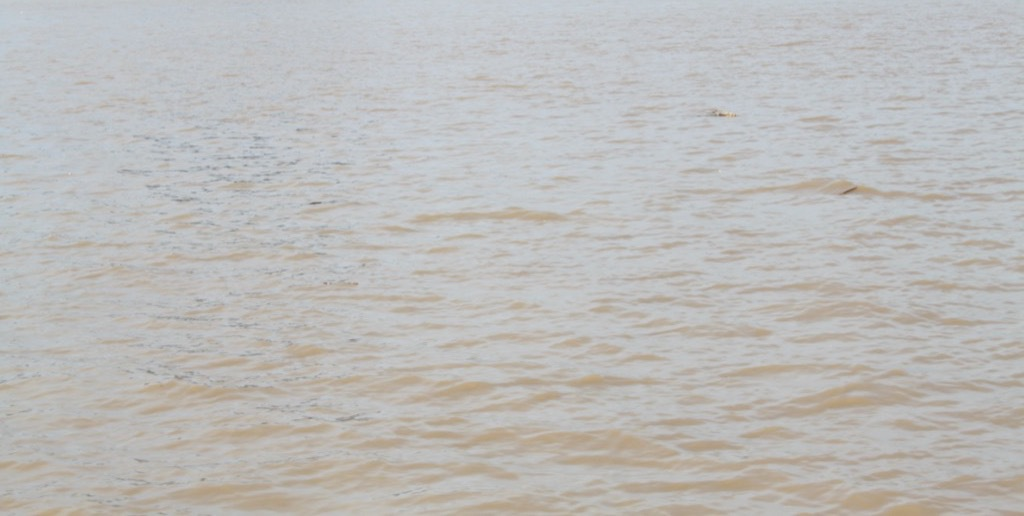plastic: (796, 166, 864, 216), (675, 97, 751, 141)
